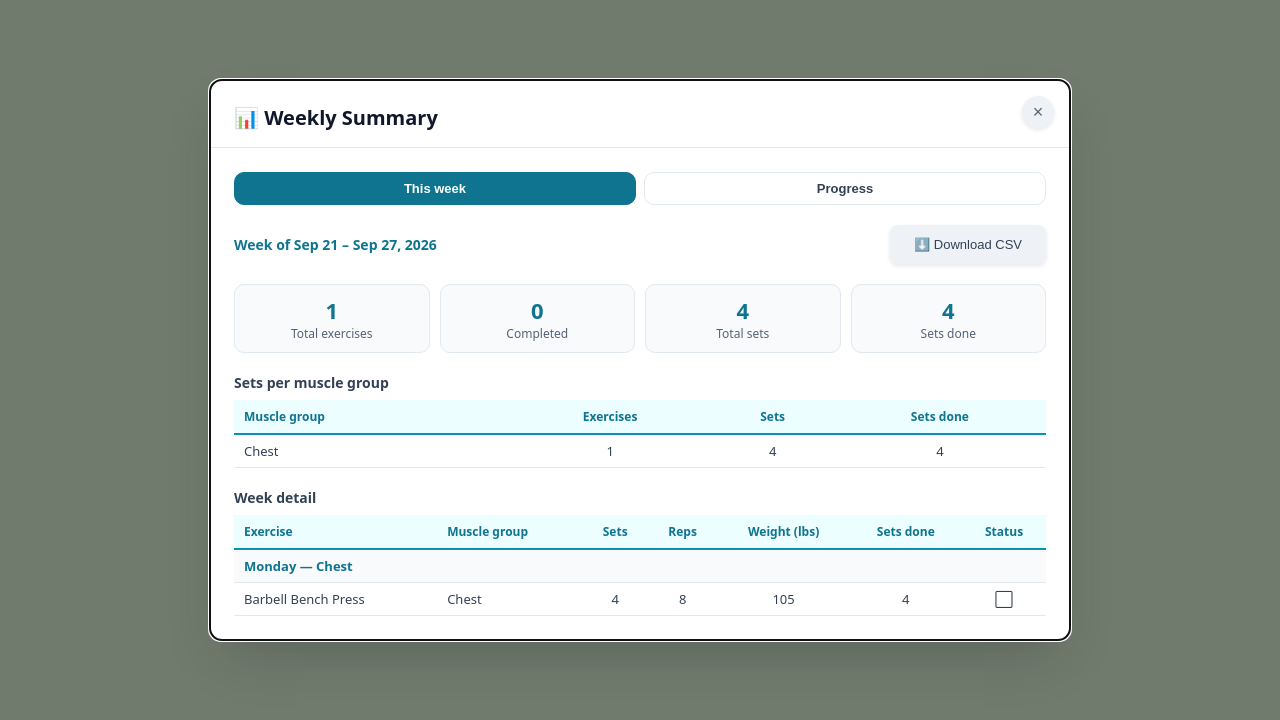
Scenario: WeeklySummaryModal progress tab › explains what is missing with fewer than two logged weeks
Click the button "Progress". click: x=845, y=188
box: [644, 172, 1046, 205]
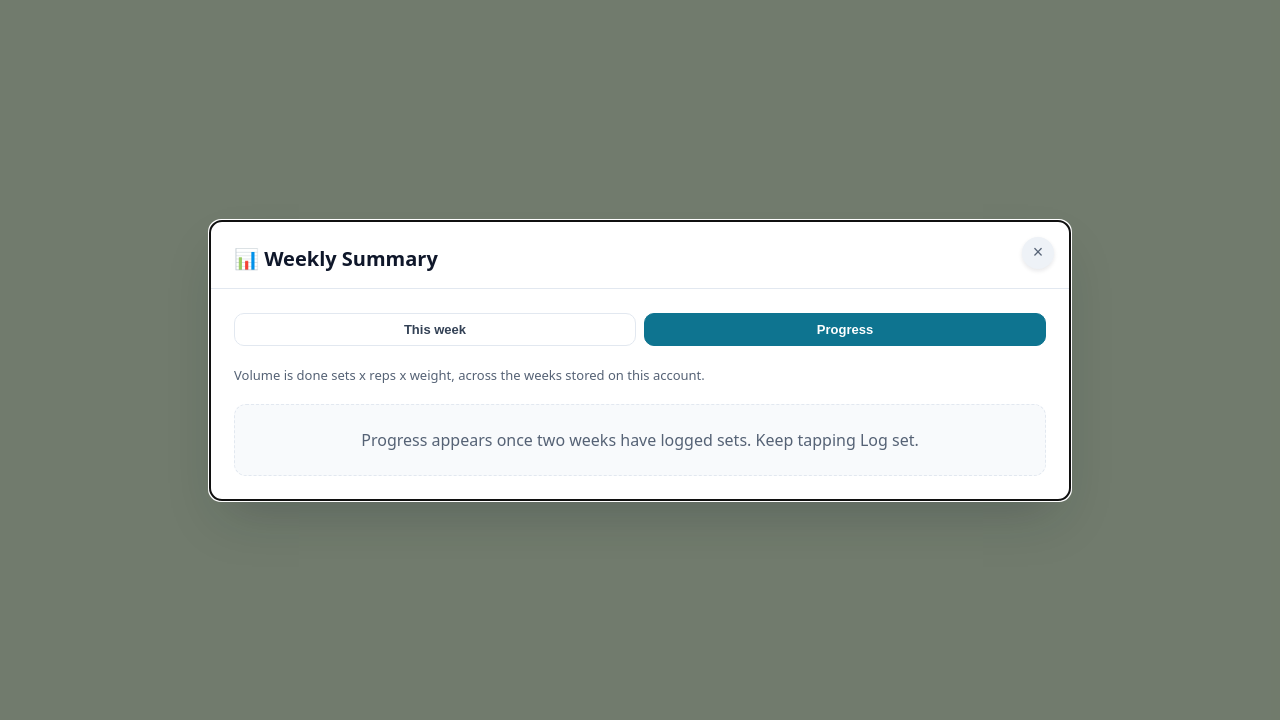
Expected: the text "Progress appears once two weeks" is shown, [361, 428, 919, 450]
